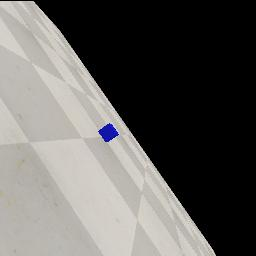box: (98, 123, 119, 142)
